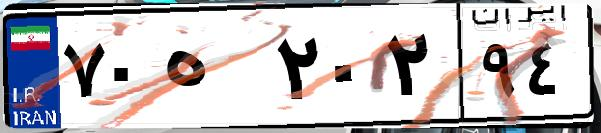0: (330, 28, 385, 110), (110, 28, 158, 98)
2: (270, 28, 330, 110), (385, 28, 445, 110)
4: (525, 38, 570, 115)
7: (57, 26, 110, 100)
9: (475, 38, 525, 113)
ه: (158, 20, 270, 120)
